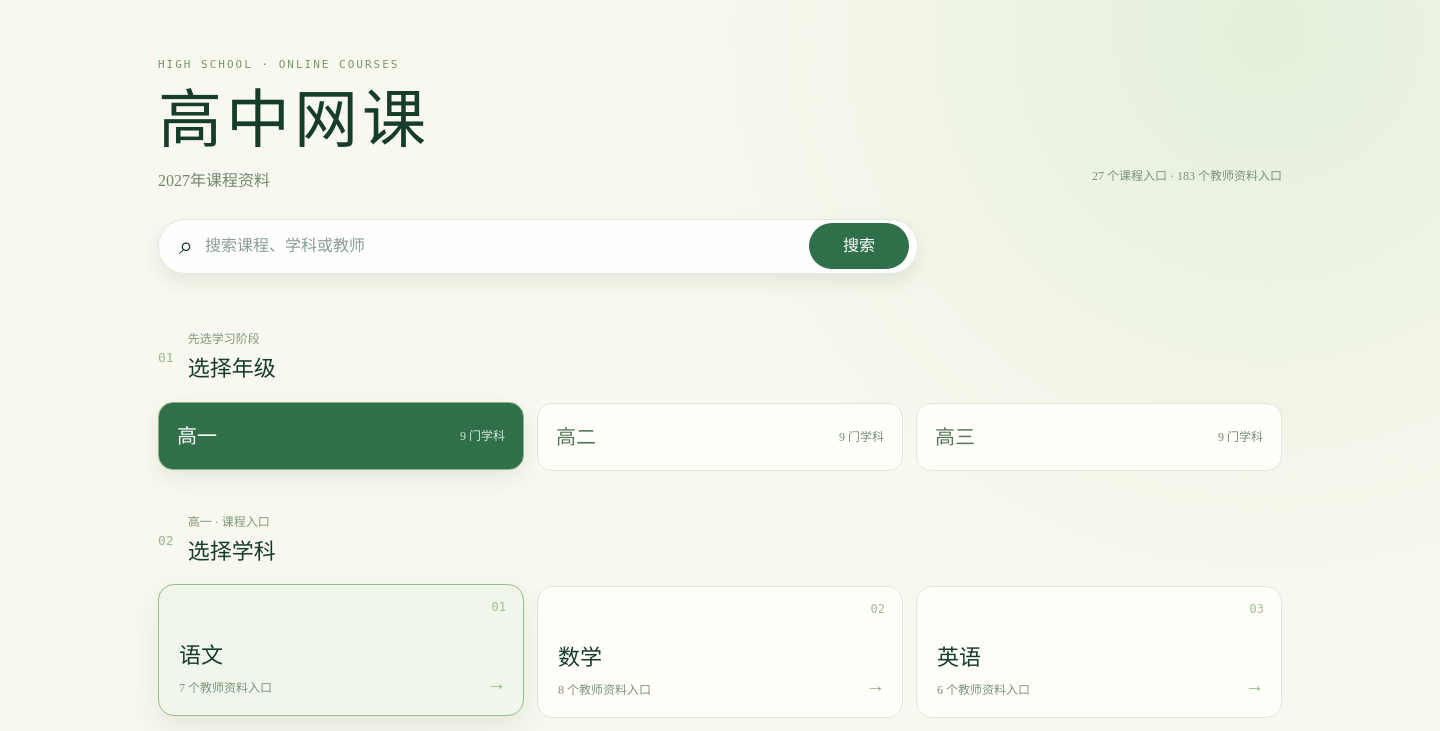
Test: 高中网课课程索引页面 › 为百度独有教师新增单独卡片并只显示百度入口
This screenshot has width=1440, height=731.
Click the tab "高三 9 门学科". click: (955, 437)
box: [916,402,1282,470]
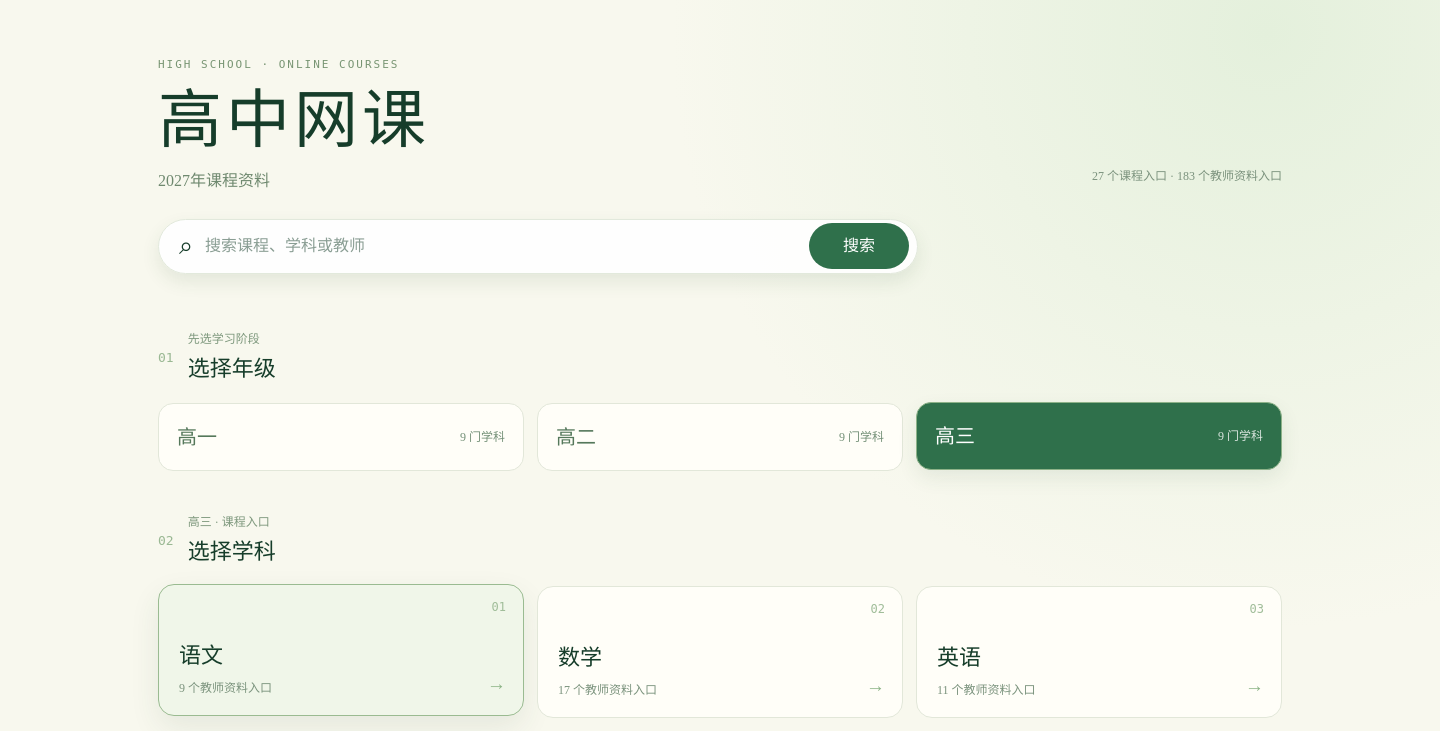
Click the button "02 数学 17 个教师资料入口 →". click: (580, 658)
box: [537,586,903,718]
(page scrolled)
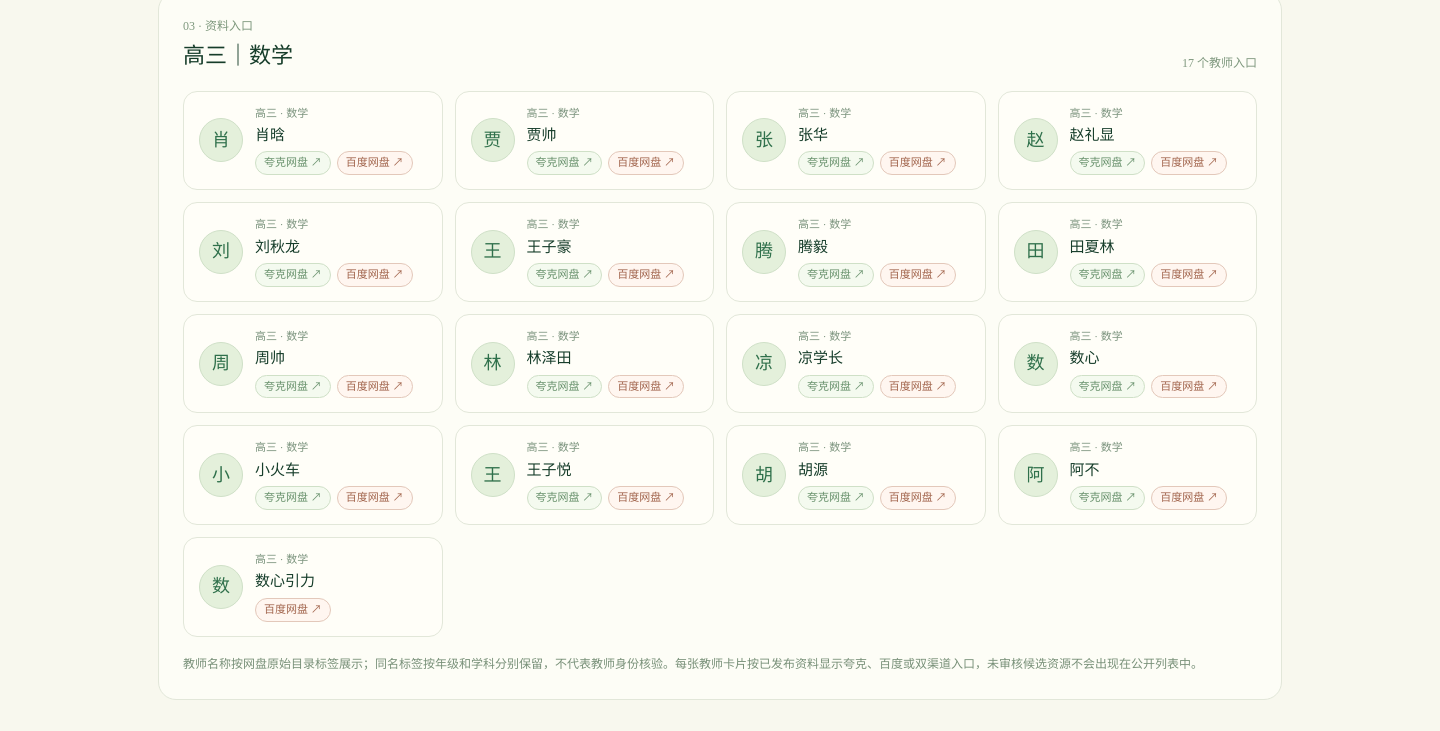
Now the link "百度网盘 ↗" below "数心引力" is shown, box [255,598,331,622]
